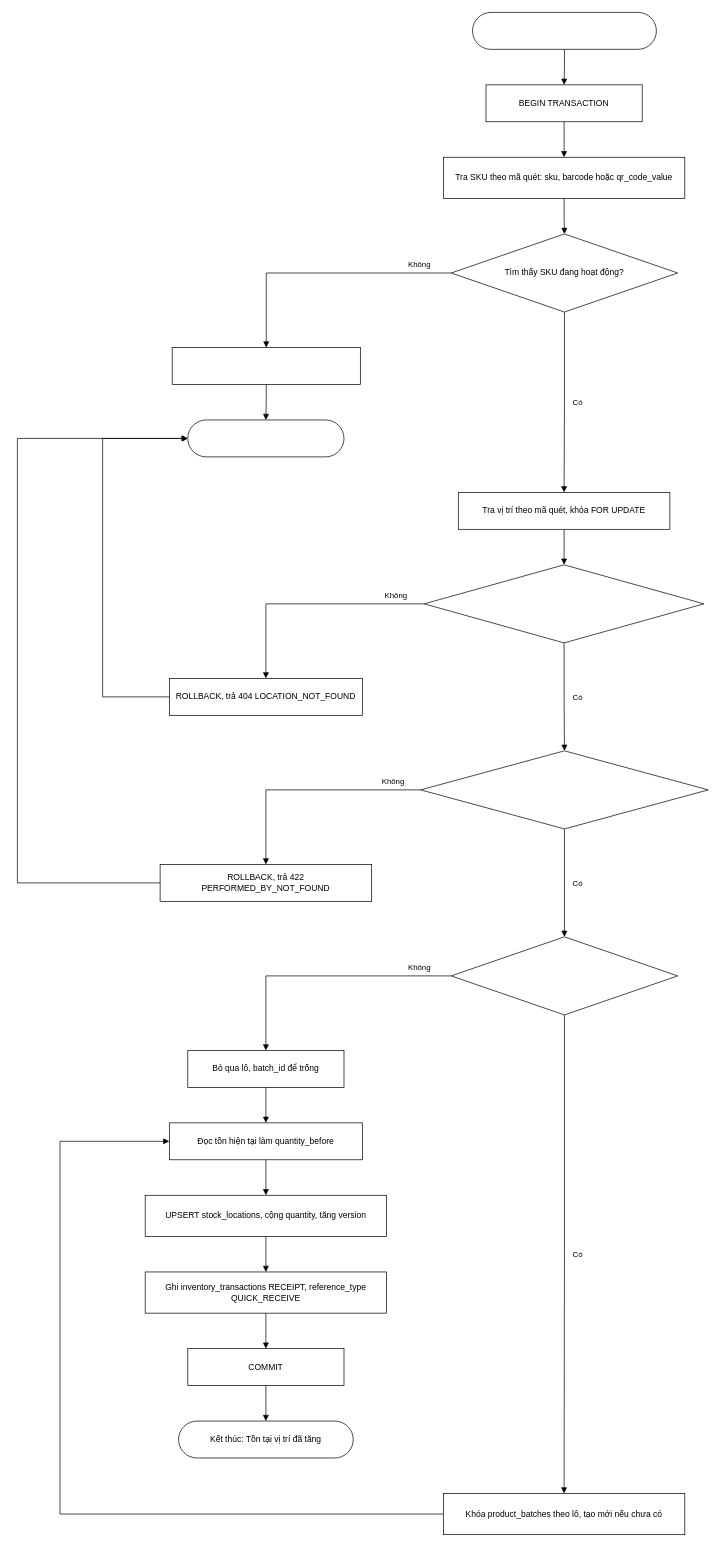
Image size: 721x1547. Some labels were removed from this diagram. The shapes that lost their labels are listed below. From the top down, each one's centre as x and y in pixels, then its label:
At (x=564, y=30): "Bắt đầu: POST /stock/quick-receive".
At (x=265, y=365): "ROLLBACK, trả 404 PRODUCT_NOT_FOUND".
At (x=265, y=438): "Kết thúc: Không ghi nhận tồn".
At (x=564, y=603): "Tìm thấy vị trí ở trạng thái ACTIVE?".
At (x=564, y=789): "Tìm được người thực hiện đang ACTIVE?".
At (x=564, y=975): "Có nhập số lô hoặc hạn dùng?".
